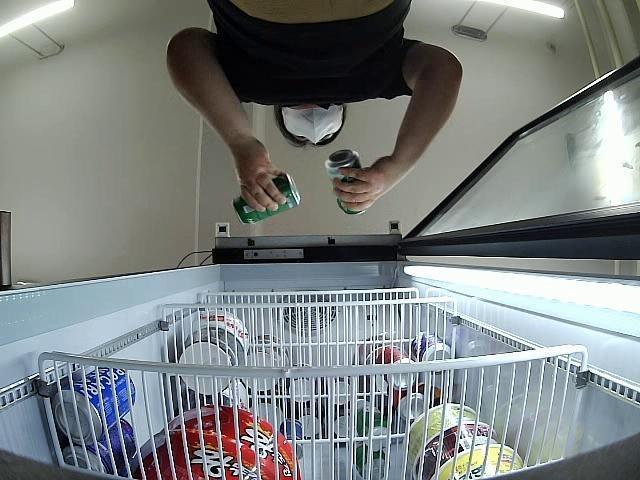12_chilsungCider: (230, 173, 299, 224), (324, 149, 368, 216)
